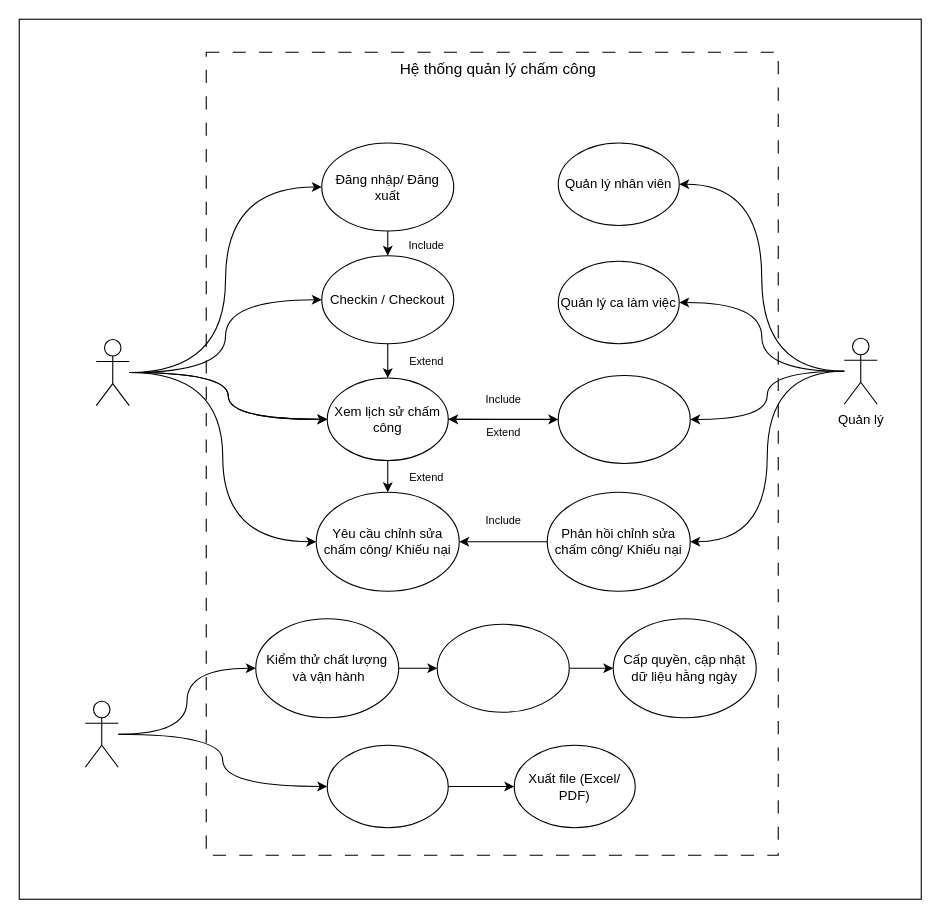
The diagram is 941 pixels wide and 919 high, and some of its shapes have lost their labels. The shapes that lost their labels are listed below. From the top down, each one's centre as x and y in pixels, then its label:
At (112,372): "Nhân viên".
At (623,418): "Thống kê, tổng hợp giờ công".
At (502,667): "Phát triển và cải tiến".
At (101,733): "Admin".
At (387,786): "Thống kê và báo cáo".
